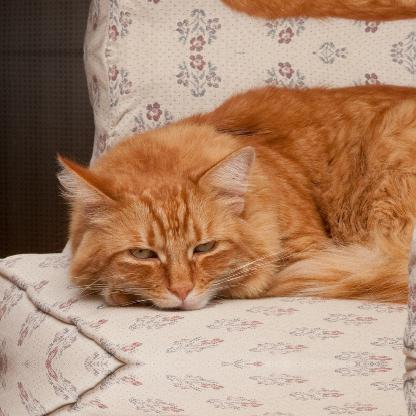Cat: (51, 81, 416, 309)
